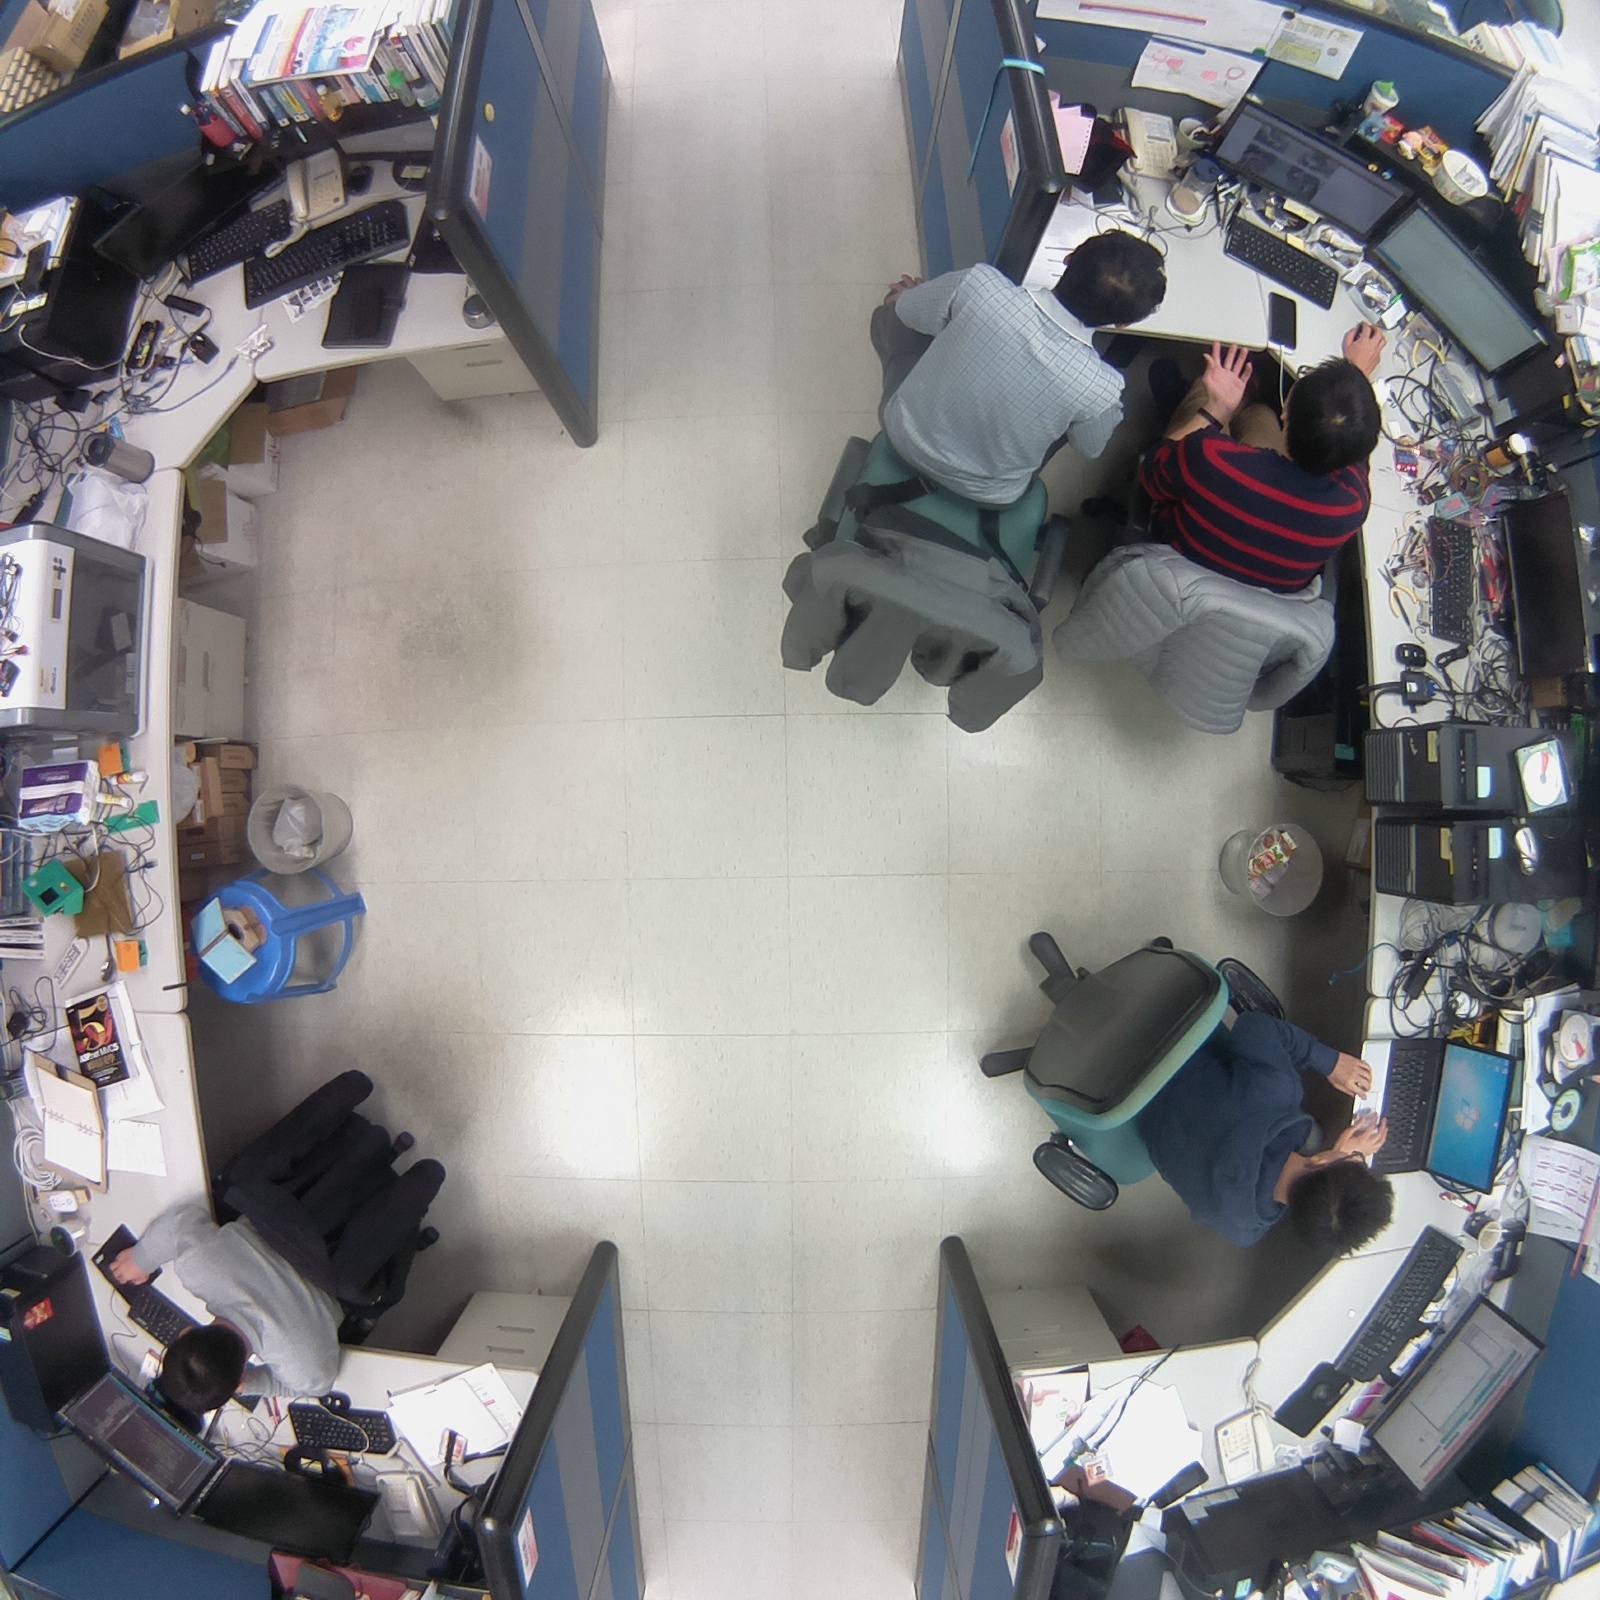head: (1268, 346, 1393, 472), (1276, 1146, 1402, 1265), (1051, 227, 1172, 338), (157, 1306, 255, 1423)
sitting: (760, 224, 1168, 745), (963, 906, 1402, 1269), (1050, 323, 1394, 765), (95, 1050, 470, 1418)
